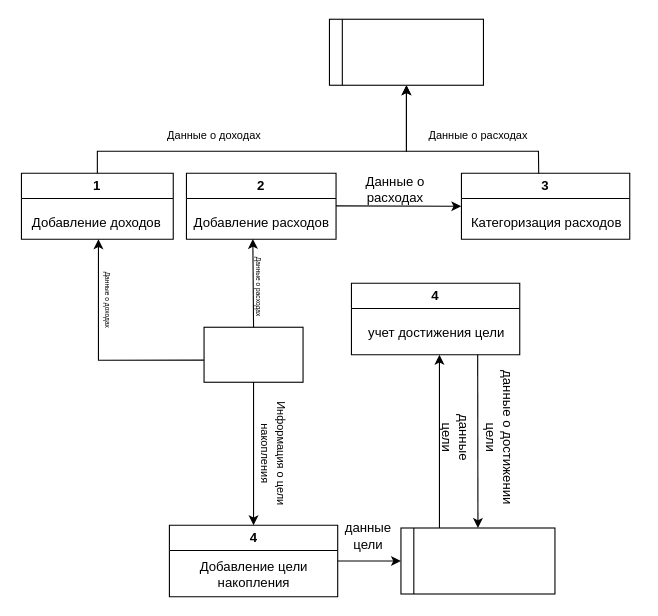
Image size: 658x616. Some labels were removed from this diagram. The centre of each missing label's shape, as x and y in pixels:
Пользователь: [253,354]
хранилище данных о расходах и доходах: [405,51]
хранилище целей: [477,560]
